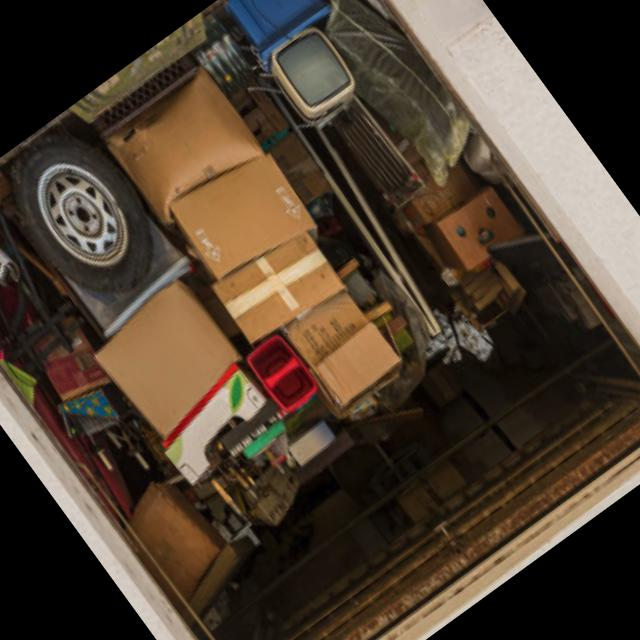Kardus: (100, 66, 421, 438), (84, 273, 255, 445), (408, 177, 529, 292)
